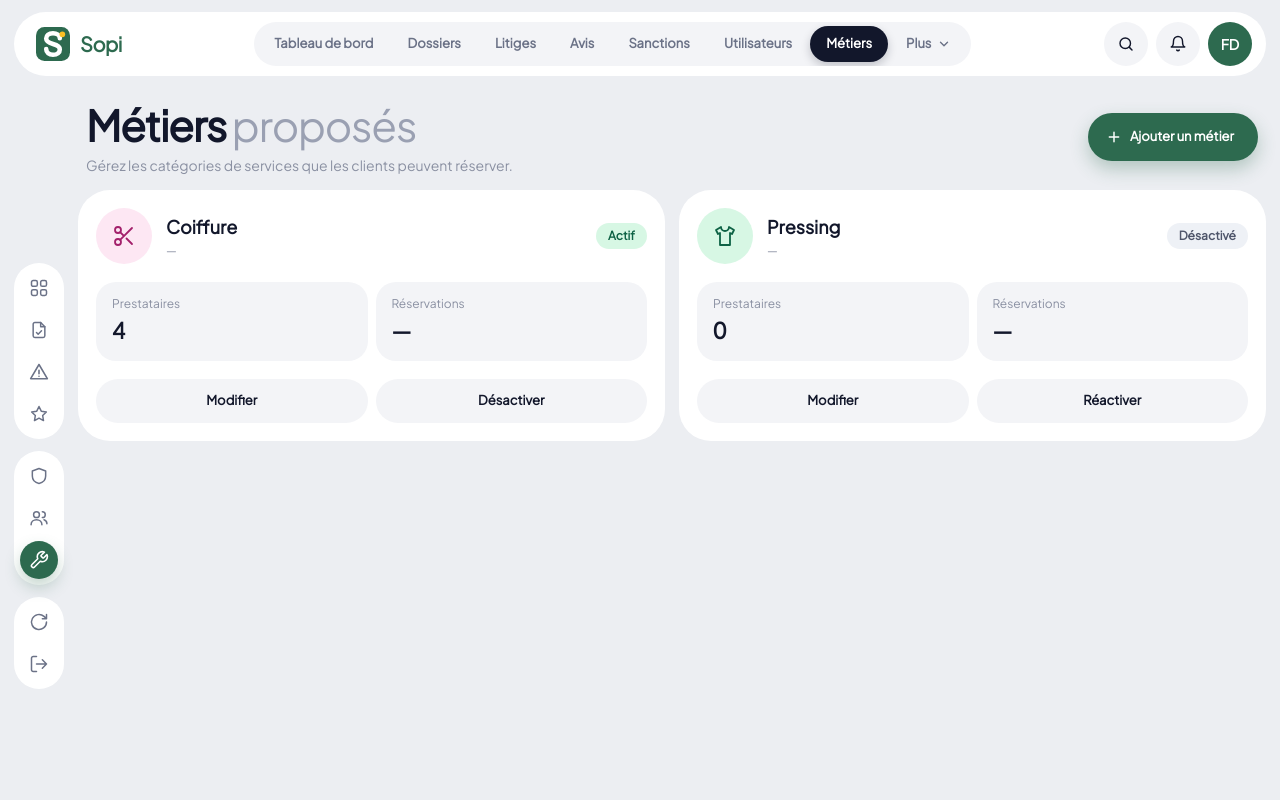
Test case: métiers › renomme un métier (PATCH simulé avec le seul libellé)
Click the button with aria-label "Renommer le métier Coiffure".
click(232, 401)  # box [96,379,368,423]
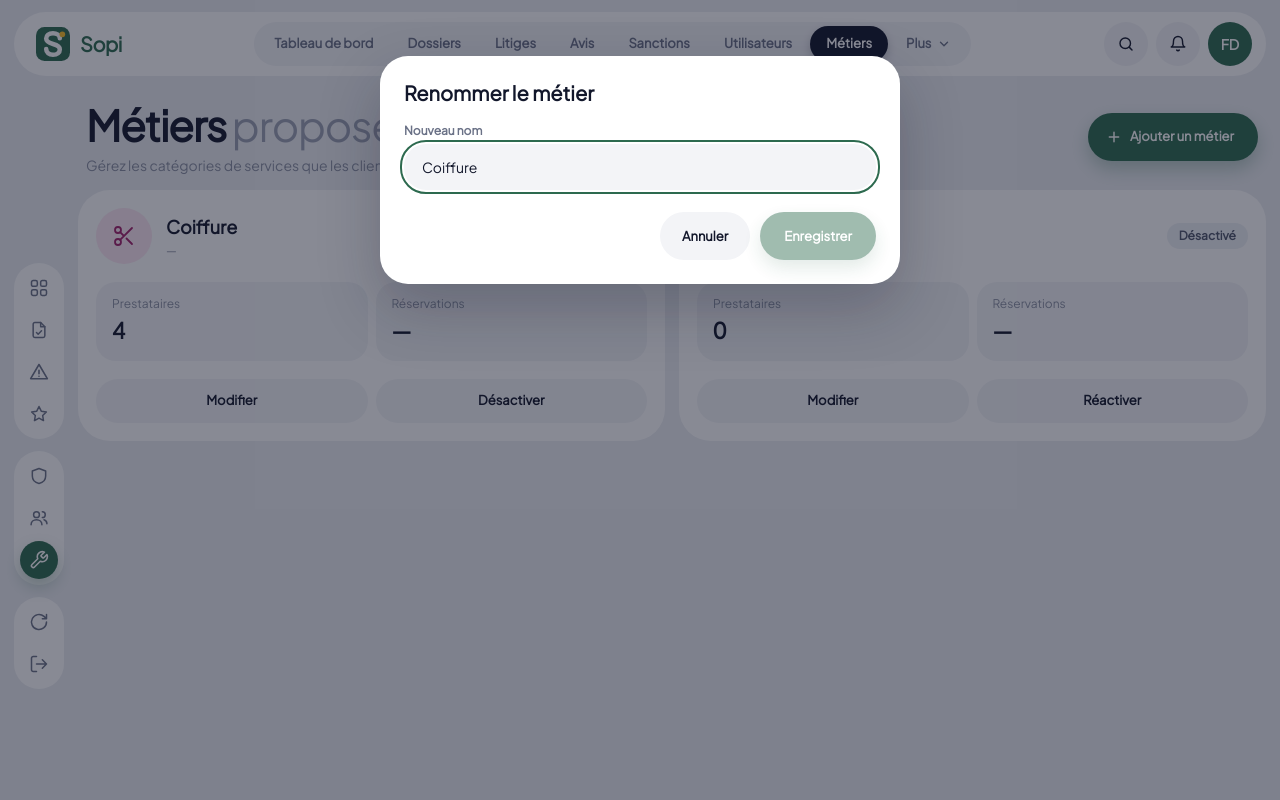
expect the button "Enregistrer" is disabled: met, box [760,212,876,260]
Replace the text in the field labelled "Nouveau nom" with "Coiffure et beauté" at x=640, y=167, box [404,144,876,190]
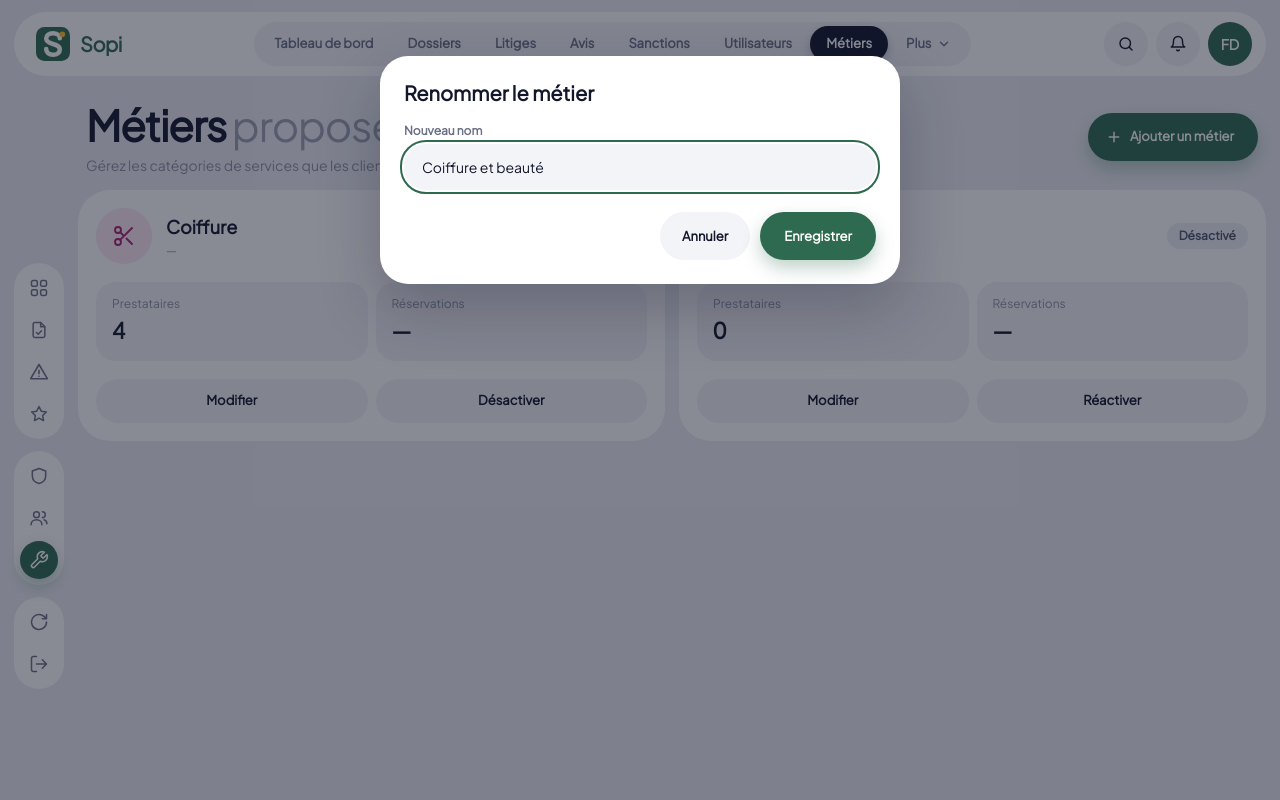
Click the button "Enregistrer".
click(818, 236)  # box [760,212,876,260]
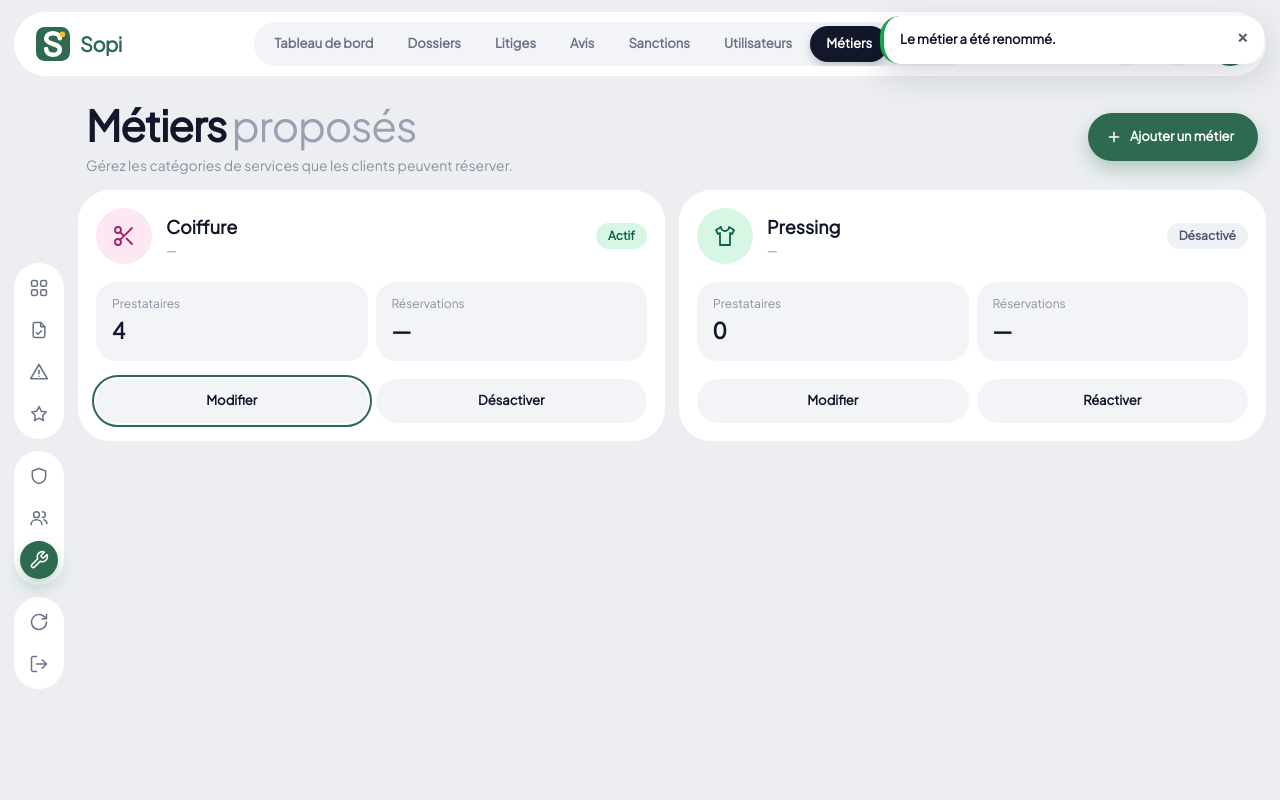
expect the text "Le métier a été renommé." is shown: met, box [900,31,1056,47]
